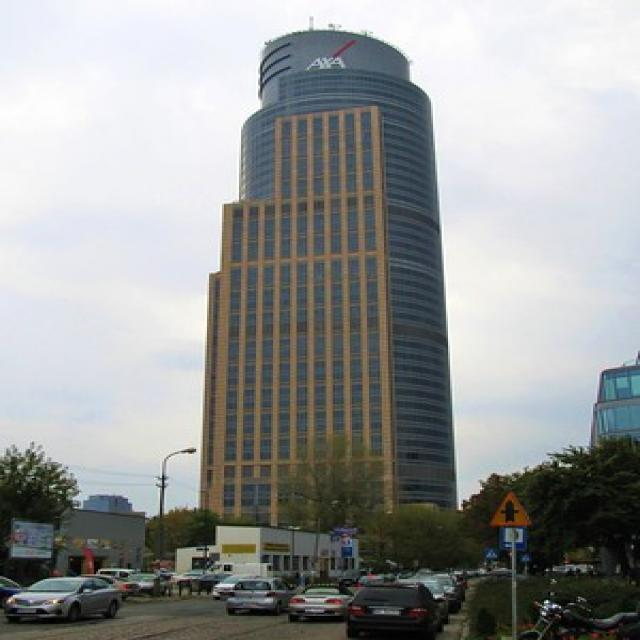Normal_building: (190, 25, 463, 556)
